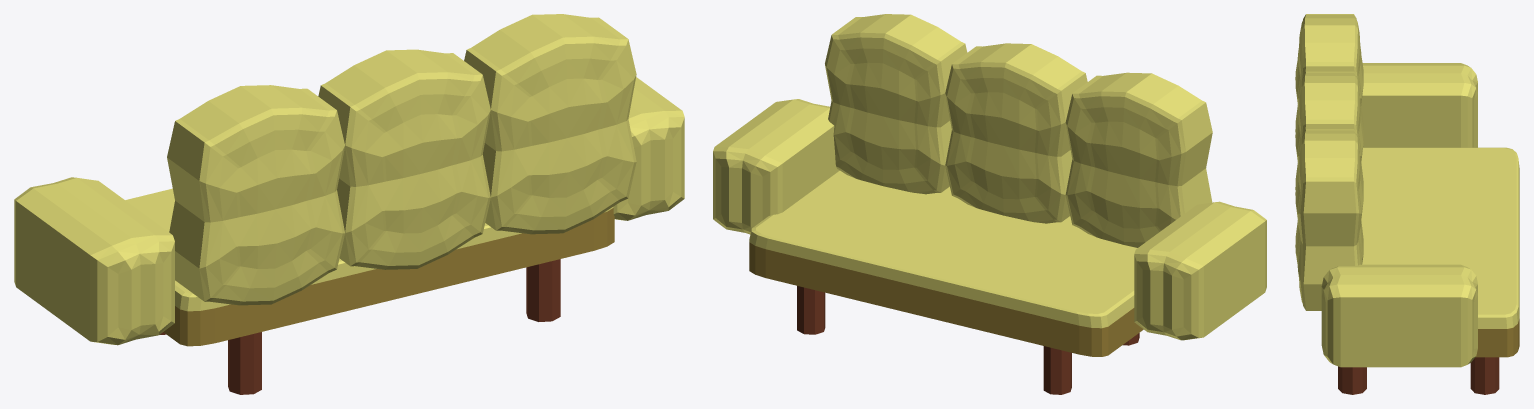
The model's file is Sofa.dae.
3 renders of one model, left to right at view 1: azimuth 30°, elevation 25°; view 2: azimuth 150°, elevation 25°; view 3: azimuth 270°, elevation 25°, orthographic. The views are drawn at different scales.
Visible parts, largest first — view 1: Cube.003, Cube.002, TV_Stand.003, table_legs.001; view 2: Cube.003, TV_Stand.003, Cube.002, table_legs.001; view 3: Cube.002, TV_Stand.003, Cube.003, table_legs.001.
Part boxes in pixels (x1,y1,x2,y2): Cube.003: [167, 14, 636, 305]; Cube.002: [14, 77, 684, 345]; TV_Stand.003: [125, 188, 614, 346]; table_legs.001: [160, 259, 560, 394]; Cube.003: [825, 14, 1212, 247]; TV_Stand.003: [749, 170, 1143, 356]; Cube.002: [713, 99, 1266, 340]; table_legs.001: [797, 286, 1139, 394]; Cube.002: [1321, 63, 1477, 367]; TV_Stand.003: [1361, 147, 1519, 357]; Cube.003: [1295, 14, 1363, 310]; table_legs.001: [1338, 357, 1499, 394].
Size of the model in its own units: 1.8 by 0.7272 by 0.8748.
